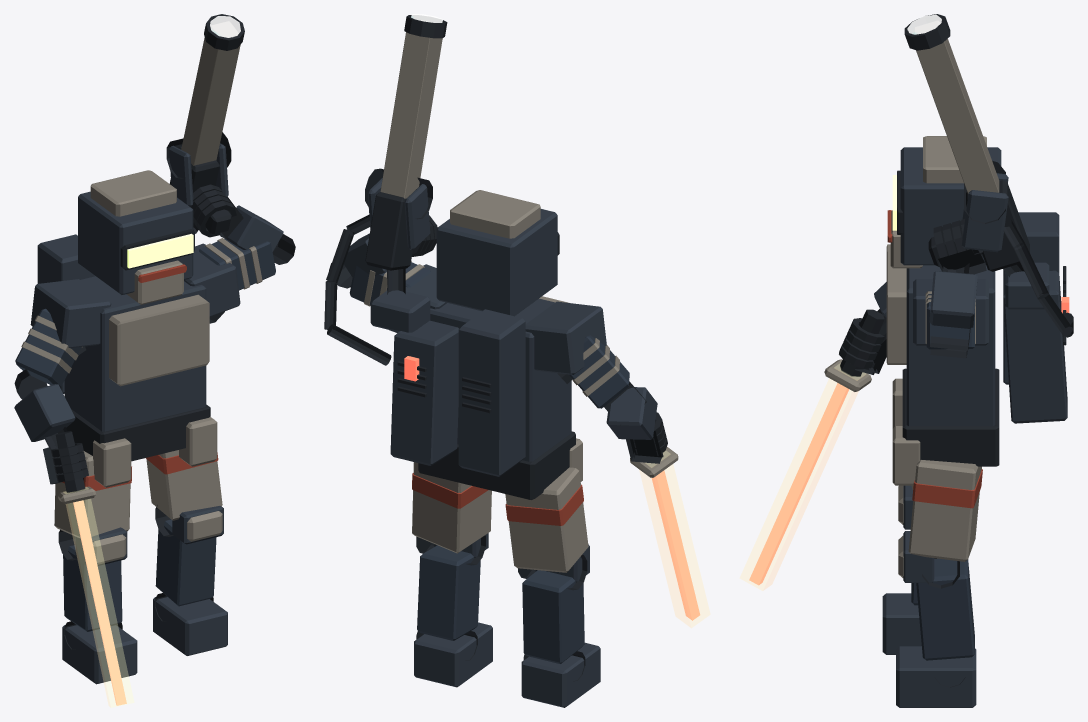
The model's file is vanguard-color-v2.glb.
The picture shows the model from 3 angles, left to right: view 1: azimuth 30°, elevation 25°; view 2: azimuth 150°, elevation 25°; view 3: azimuth 270°, elevation 25°; orthographic projection. The views are drawn at different scales.
Parts seen in each view (by area): view 1: n2, n4, n18, n63, n40, n70, n48, n6, n72, n65, n80, n82 (+30 smaller); view 2: n12, n18, n14, n40, n63, n2, n70, n75, n80, n48, n65, n6 (+18 smaller); view 3: n2, n63, n14, n40, n65, n18, n70, n72, n6, n62, n32, Cannon fork 1 (+19 smaller).
Boxes of the visible parts, left/top/right/bottom form: n2: left=64, top=276, right=206, bottom=431; n4: left=109, top=294, right=209, bottom=386; n18: left=78, top=191, right=193, bottom=294; n63: left=63, top=487, right=133, bottom=707; n40: left=181, top=25, right=240, bottom=165; n70: left=155, top=519, right=216, bottom=606; n48: left=30, top=279, right=111, bottom=348; n6: left=66, top=404, right=210, bottom=461; n72: left=153, top=597, right=227, bottom=655; n65: left=146, top=450, right=222, bottom=520; n80: left=63, top=545, right=122, bottom=631; n82: left=62, top=625, right=137, bottom=684; n12: left=458, top=309, right=525, bottom=476; n18: left=436, top=209, right=557, bottom=316; n14: left=390, top=320, right=458, bottom=465; n40: left=380, top=32, right=442, bottom=198; n63: left=639, top=451, right=710, bottom=627; n2: left=430, top=298, right=571, bottom=461; n70: left=417, top=545, right=480, bottom=640; n75: left=505, top=467, right=588, bottom=572; n80: left=522, top=570, right=584, bottom=663; n48: left=525, top=301, right=606, bottom=374; n65: left=412, top=462, right=491, bottom=553; n6: left=418, top=431, right=575, bottom=499; n2: left=906, top=265, right=995, bottom=426; n63: left=740, top=363, right=865, bottom=590; n14: left=1003, top=270, right=1067, bottom=423; n40: left=913, top=22, right=999, bottom=193; n65: left=908, top=460, right=981, bottom=561; n18: left=900, top=147, right=1001, bottom=265; n70: left=916, top=558, right=974, bottom=660; n72: left=896, top=646, right=976, bottom=707; n6: left=902, top=368, right=999, bottom=466; n62: left=749, top=383, right=849, bottom=585; n32: left=929, top=271, right=977, bottom=328; Cannon fork 1: left=961, top=190, right=1008, bottom=252.
Size of the model in its own units: 0.9195 by 1.91 by 0.8321.
